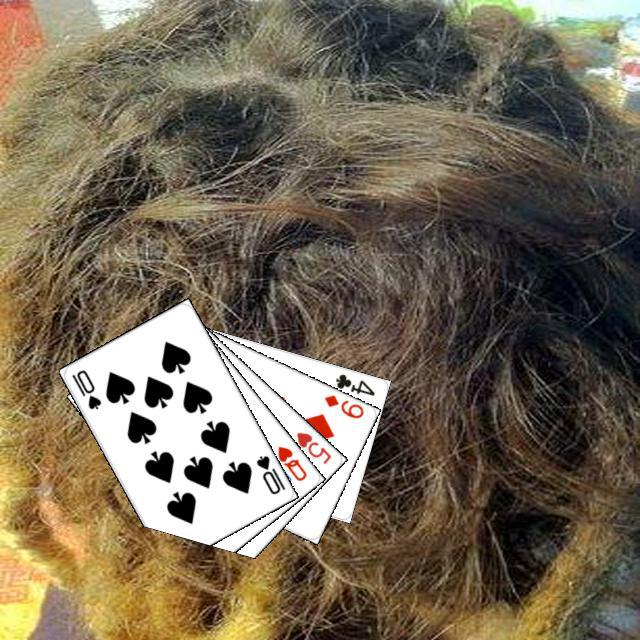10s: (251, 450, 287, 496), (67, 365, 103, 411)
4c: (330, 369, 376, 397)
5h: (291, 427, 333, 466)
9d: (319, 390, 365, 420)
Qh: (272, 441, 309, 483)
